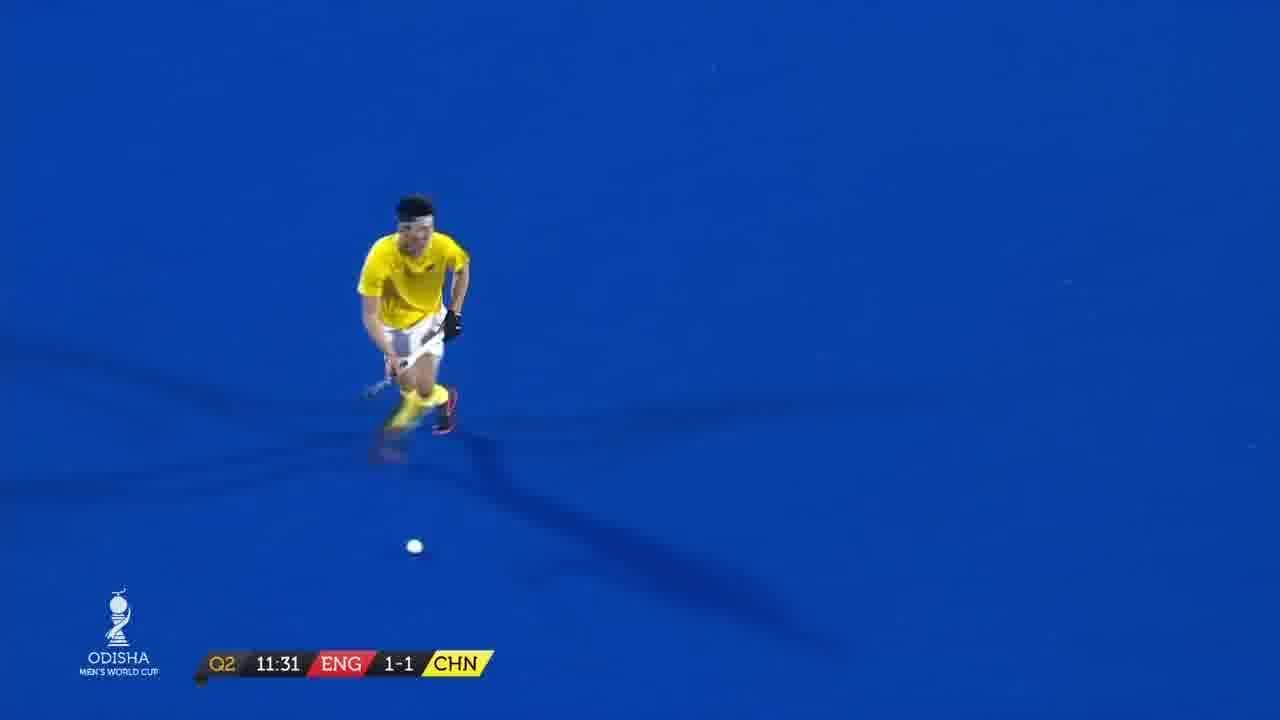ball: (393, 527, 432, 563)
